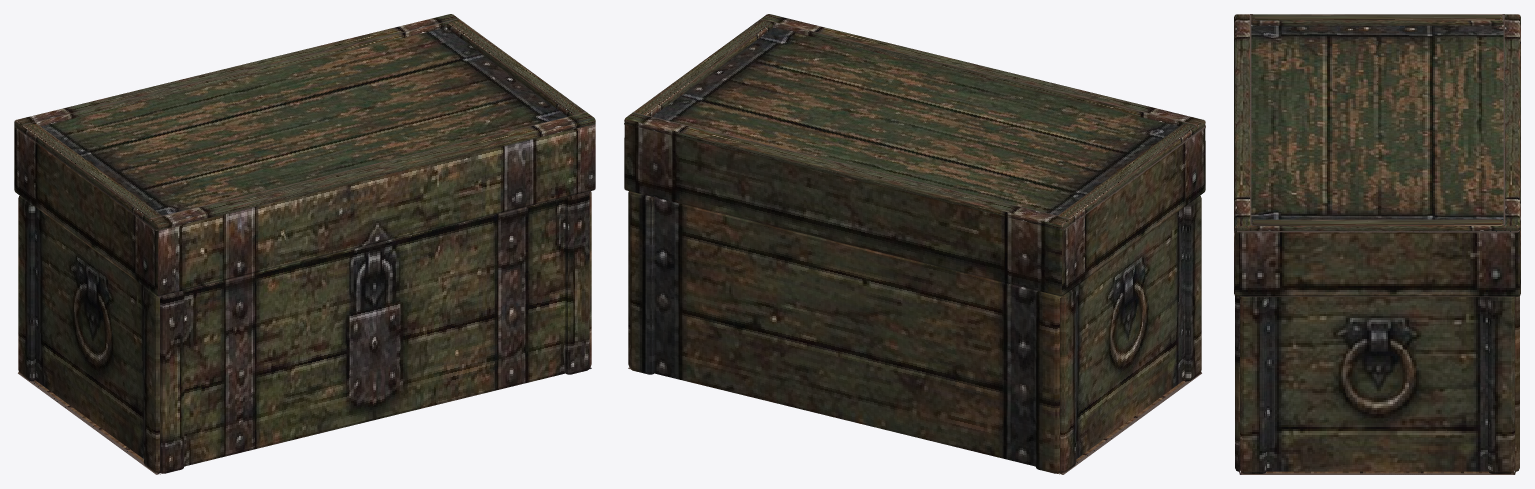
File: chest_rustic_moss.glb
3 views of the same model, side by side, from view 1: azimuth 30°, elevation 25°; view 2: azimuth 150°, elevation 25°; view 3: azimuth 270°, elevation 25° (orthographic).
Visible parts, largest first — view 1: lid, body; view 2: lid, body; view 3: lid, body.
Part boxes in pixels (x1,y1,x2,y2): lid: (14,14,595,296); body: (18,191,591,474); lid: (624,14,1205,296); body: (628,191,1201,474); lid: (1234,14,1520,296); body: (1235,296,1519,474).
Size of the model in its own units: 1.03 by 0.562 by 0.584.
1 material, 1 textured.
